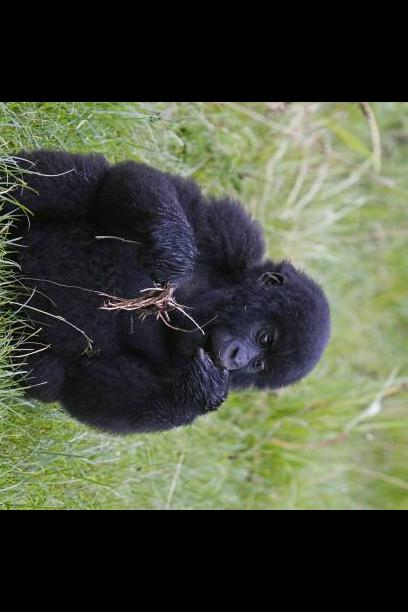goriile_montagne: (18, 170, 328, 420)
